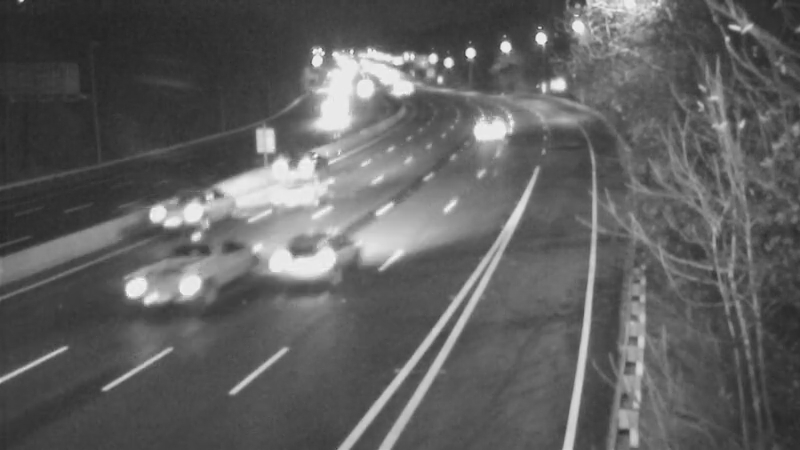vehicle: (252, 124, 332, 204), (130, 171, 210, 251), (151, 227, 231, 307), (267, 228, 347, 308), (455, 105, 505, 155)
